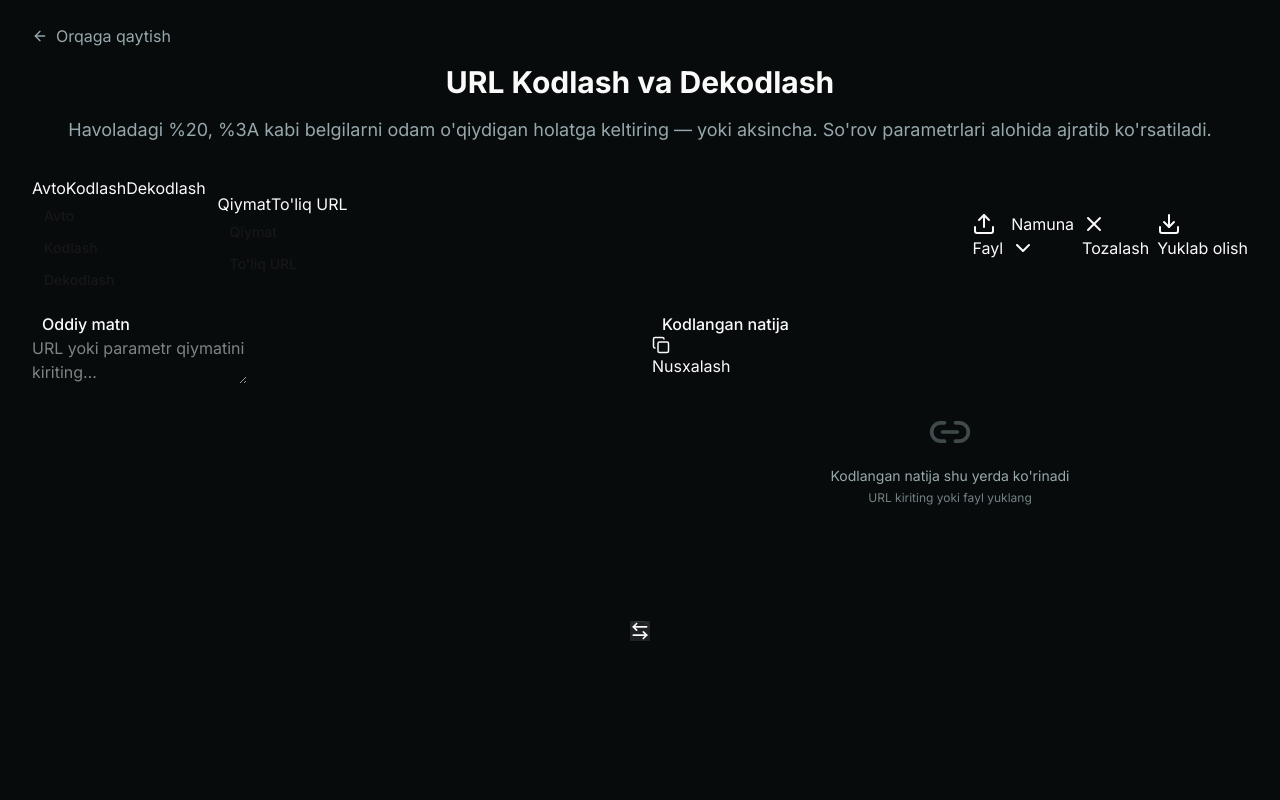
it: the tool decides, and says what it decided › keeps a pasted link usable without being told to
Type "https://webiston.uz/search?q=hello world&lang=uz" into the text box labelled "URL yoki parametr qiymatini kiriting…" at point(140, 360), box [32,336,247,384]
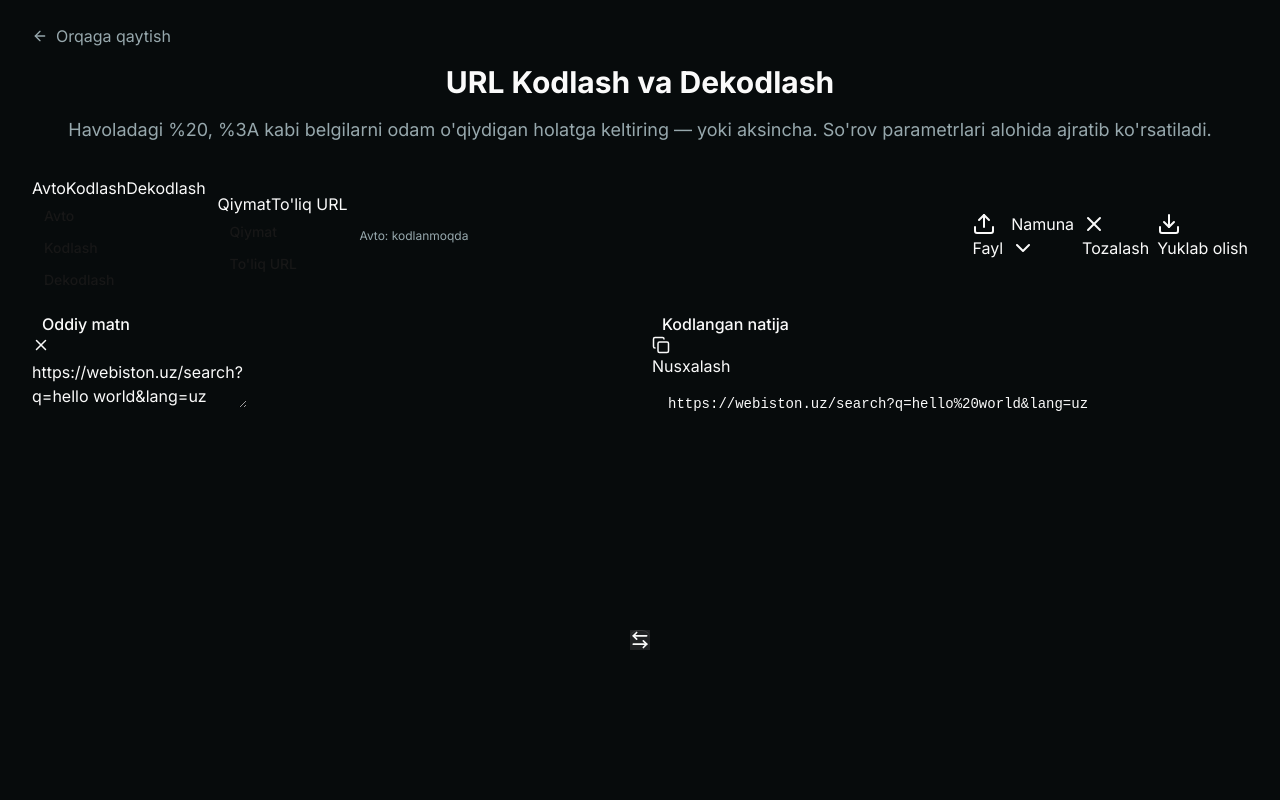
expect the element named "natija" reads "https://webiston.uz/search?q=hello%20world&lang=uz": met, box [668,396,1088,412]
